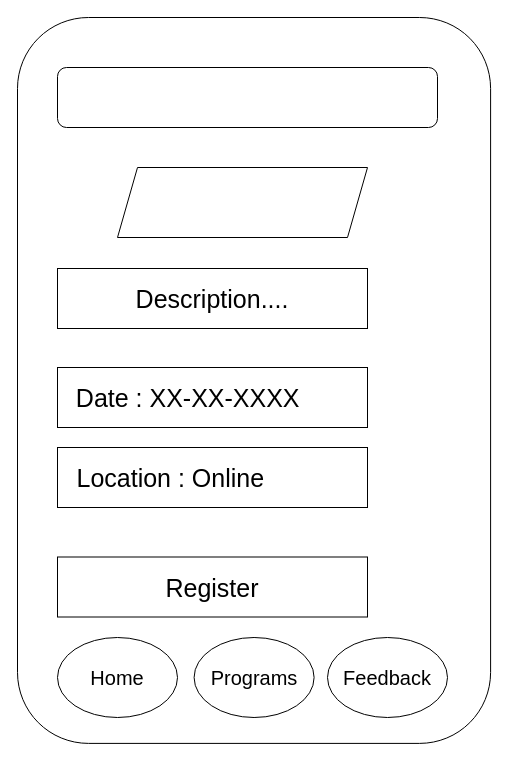
Image size: 509x761. Some labels were removed from this diagram. Here are the shapes that lost their labels. From the top down, the box of each, then its label:
(56, 66, 438, 128): Program Name
(116, 166, 368, 238): Program Image
